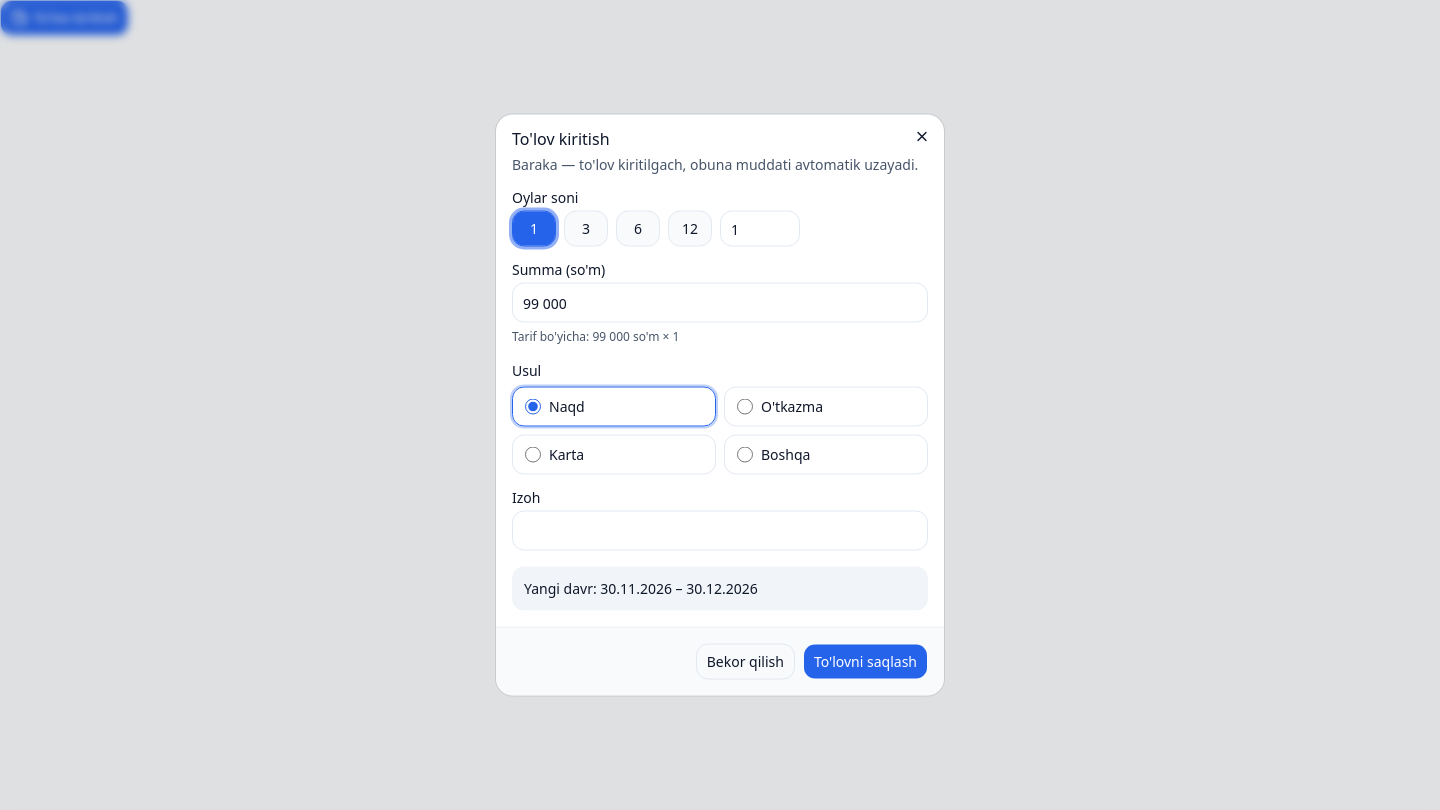
Test: PaymentDialog › suggests plan price × months and previews the new period
The width and height of the screenshot is (1440, 810).
Expected: the field labelled "Summa (so'm)" holds "99 000", [512, 282, 928, 322]
Expected: the text with test id "payment-preview" reads "Yangi davr: 30.11.2026 – 30.12.2026", [524, 578, 758, 598]
Click the button "3": (586, 228) [564, 210, 608, 246]
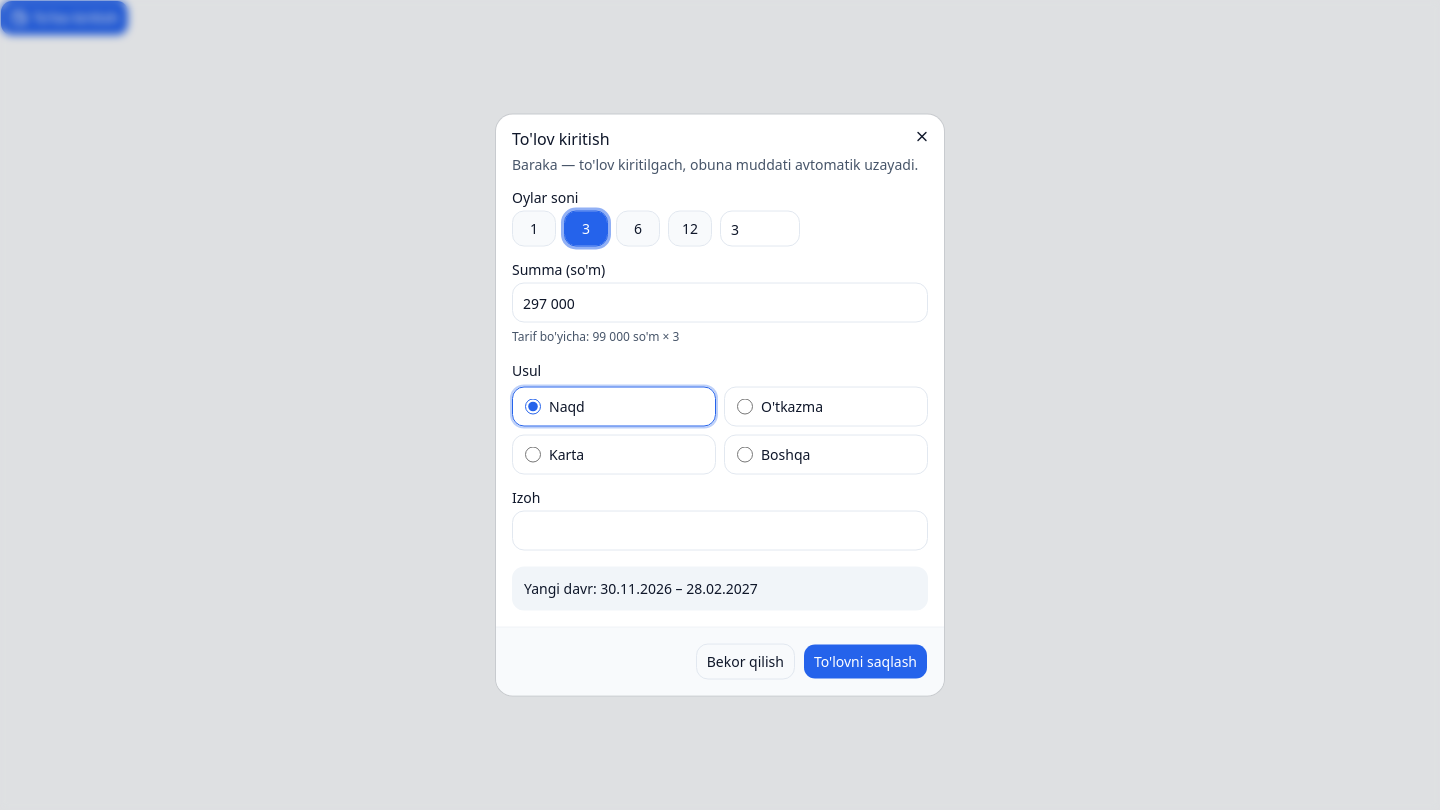
Expected: the field labelled "Summa (so'm)" holds "297 000", [512, 282, 928, 322]
Expected: the text with test id "payment-preview" shows "30.11.2026 – 28.02.2027", [524, 578, 758, 598]
